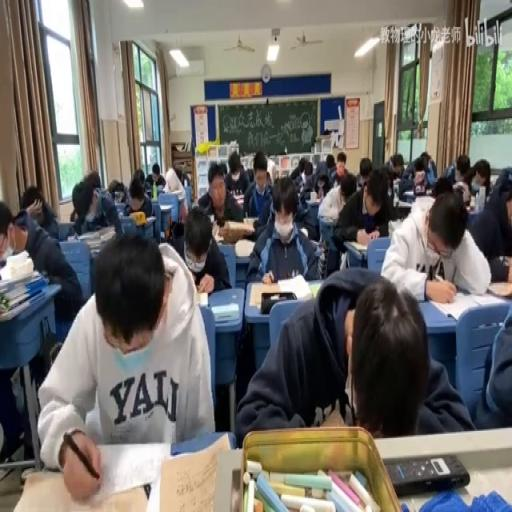calculator: (148, 431, 233, 512), (424, 286, 498, 320), (249, 273, 313, 309), (210, 300, 238, 322), (486, 280, 512, 299), (233, 238, 254, 256), (394, 202, 412, 219), (386, 218, 402, 236), (346, 240, 368, 252), (230, 188, 244, 205), (195, 288, 208, 306), (212, 219, 222, 242), (113, 200, 127, 214), (308, 282, 320, 298), (242, 215, 258, 226), (402, 188, 416, 200), (159, 203, 172, 212), (143, 216, 155, 225), (66, 232, 76, 242), (298, 228, 308, 238), (306, 198, 320, 204), (155, 185, 165, 193)
paper: (38, 227, 212, 495), (234, 269, 470, 445), (380, 188, 491, 298), (2, 193, 82, 326), (330, 165, 394, 263), (470, 294, 510, 427), (180, 206, 230, 296), (69, 168, 122, 240), (244, 152, 274, 222), (400, 151, 436, 196), (122, 174, 154, 219), (224, 150, 250, 198), (21, 186, 48, 228), (466, 158, 492, 199), (294, 158, 314, 193), (310, 164, 330, 199), (452, 152, 470, 186), (493, 167, 512, 199), (169, 222, 185, 260), (146, 161, 166, 189), (430, 176, 454, 198), (412, 193, 434, 215), (172, 164, 191, 188), (334, 152, 348, 184), (340, 175, 356, 202), (358, 158, 372, 180), (390, 154, 403, 175), (108, 179, 122, 198), (325, 154, 335, 170), (453, 182, 463, 196), (246, 168, 254, 183), (388, 171, 394, 186), (221, 162, 227, 176), (70, 206, 76, 220), (356, 175, 362, 189), (182, 178, 188, 186)
person: (386, 452, 470, 494), (230, 468, 242, 510)
